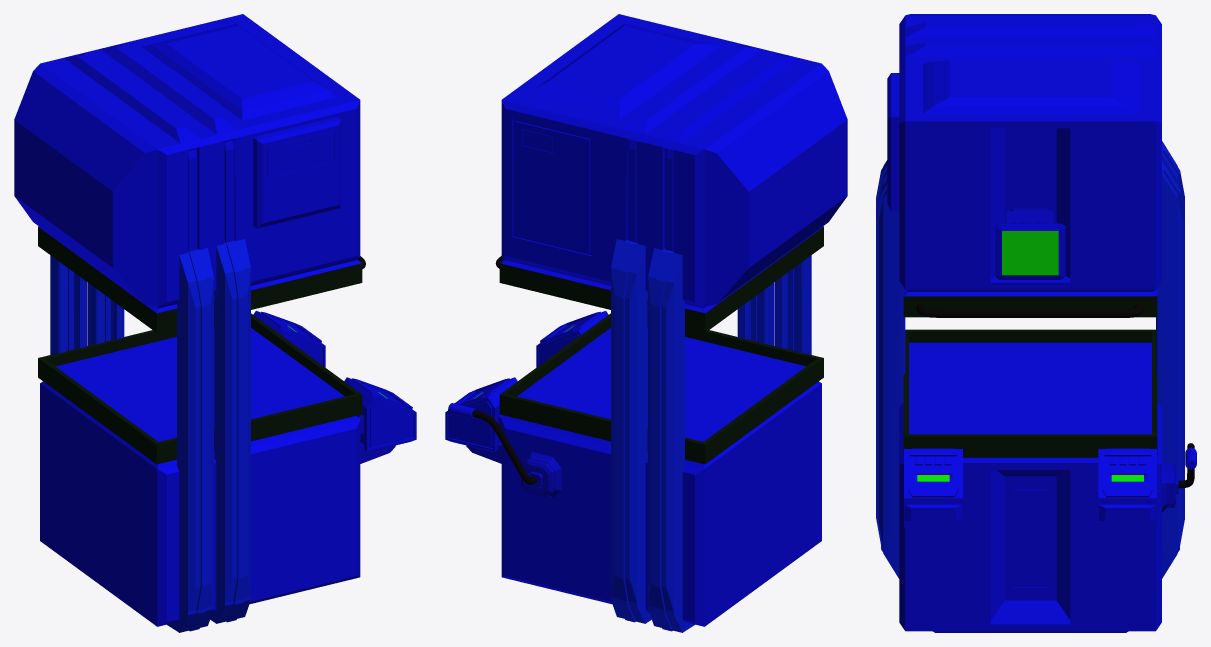
The model's file is plancha bueno.fbx.
3 renders of one model, left to right at view 1: azimuth 30°, elevation 25°; view 2: azimuth 150°, elevation 25°; view 3: azimuth 270°, elevation 25°, orthographic. The views are drawn at different scales.
Visible parts, largest first — view 1: cuerpo.006, cuerpo.002, cuerpo.004; view 2: cuerpo.006, cuerpo.002, cuerpo.004; view 3: cuerpo.006, cuerpo.002, cuerpo.004.
Boxes of the visible parts, box(x1,y1,x2,y2) form: cuerpo.006: box(14, 14, 365, 332); cuerpo.002: box(38, 311, 416, 626); cuerpo.004: box(50, 239, 250, 632); cuerpo.006: box(495, 14, 847, 332); cuerpo.002: box(445, 311, 823, 626); cuerpo.004: box(611, 239, 811, 632); cuerpo.006: box(887, 14, 1161, 317); cuerpo.002: box(899, 329, 1196, 632); cuerpo.004: box(876, 141, 1184, 578).
Size of the model in its own units: 288 by 462 by 253.
